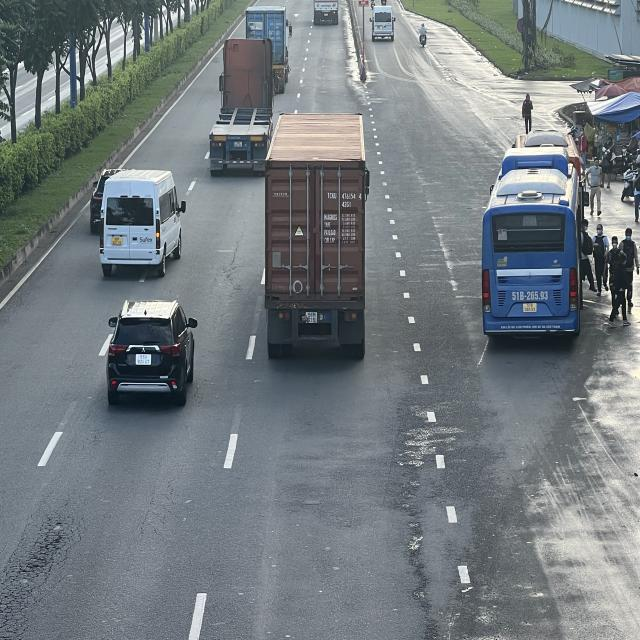car: (105, 301, 197, 407)
coach: (483, 146, 583, 338)
container: (264, 110, 367, 358), (207, 41, 272, 179), (247, 4, 292, 89)
truck: (312, 0, 339, 25)
van: (100, 170, 187, 279), (372, 5, 396, 44)
